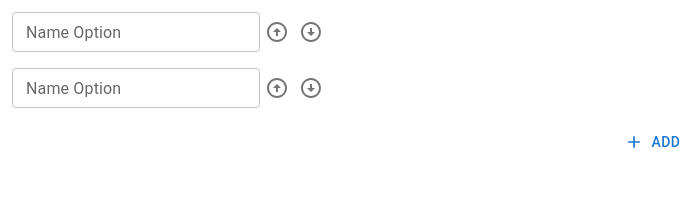
Test: SelectOptions component without props › should been checked dublicate values
Type "John" into the field with test id "input-option-0". click: (136, 32)
box: [12,12,260,52]
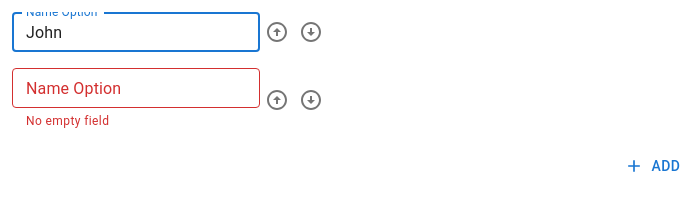
Type "John" into the field with test id "input-option-1". click: (136, 88)
box: [12,68,260,108]
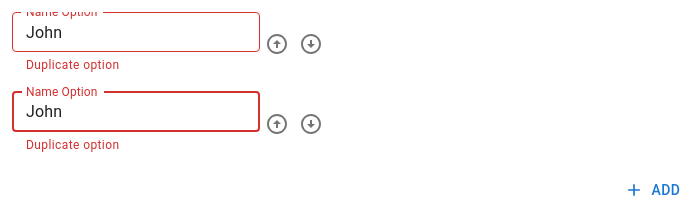
Now the 1st text "Duplicate option" is shown, box [26,58,119,72]
